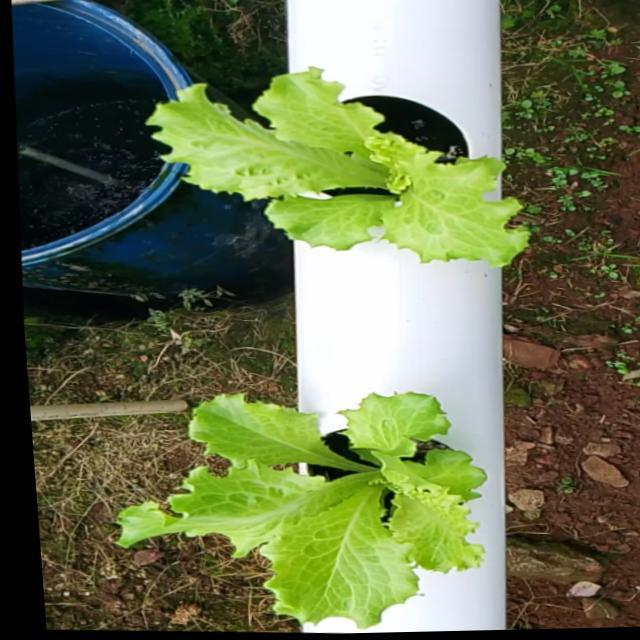Baby: (117, 390, 485, 628), (147, 60, 529, 260)
